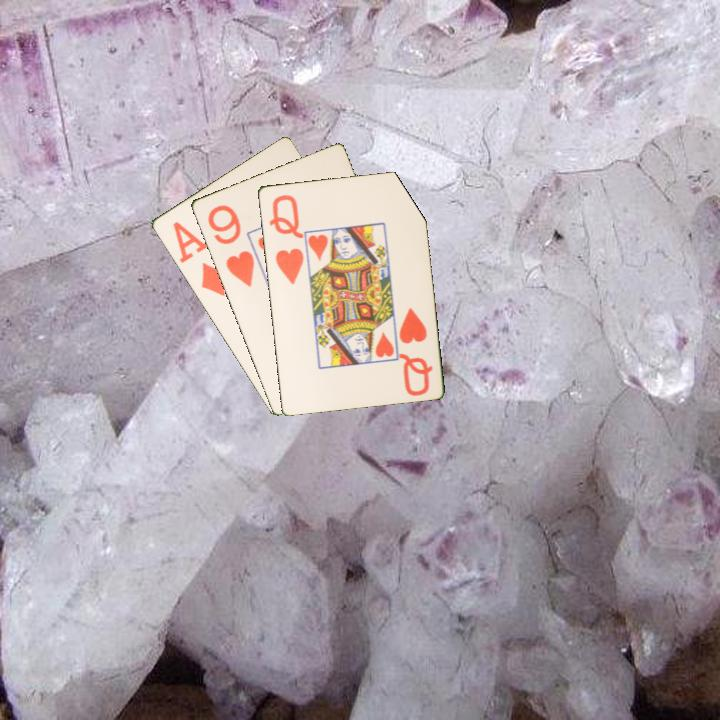9h: (204, 201, 257, 290)
Ad: (169, 218, 229, 299)
Qh: (265, 191, 306, 287), (395, 304, 435, 399)
